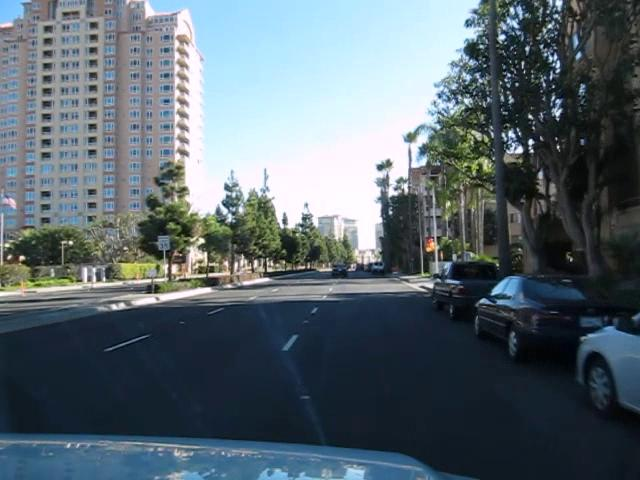speedLimit35: (156, 234, 170, 251)
